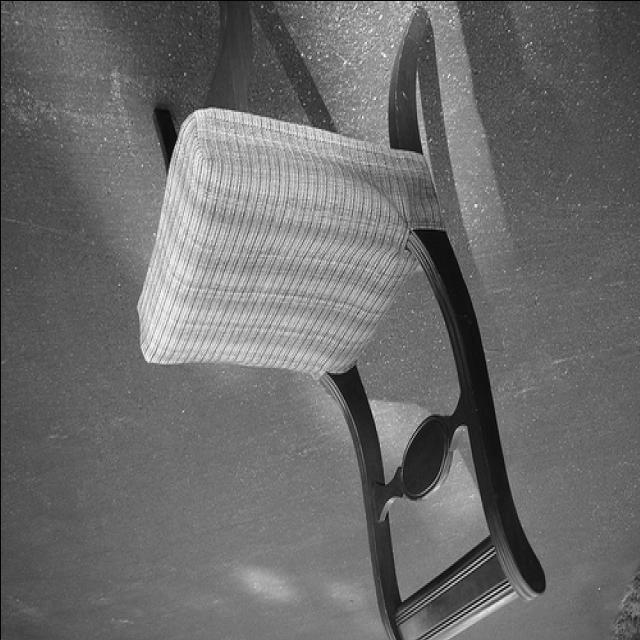chair: (134, 1, 547, 639)
